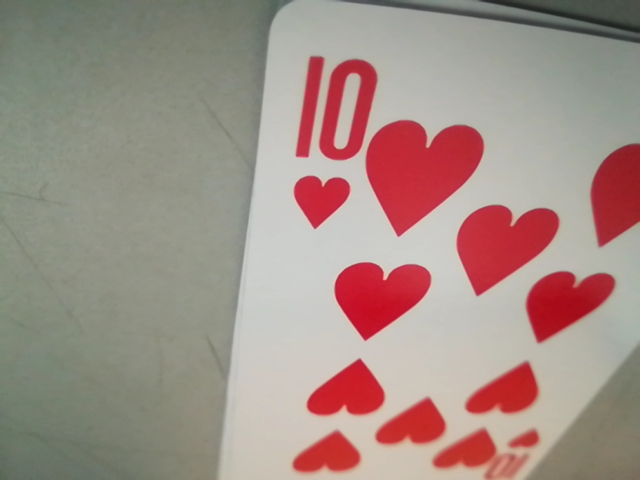hx 10: (282, 54, 373, 230)
